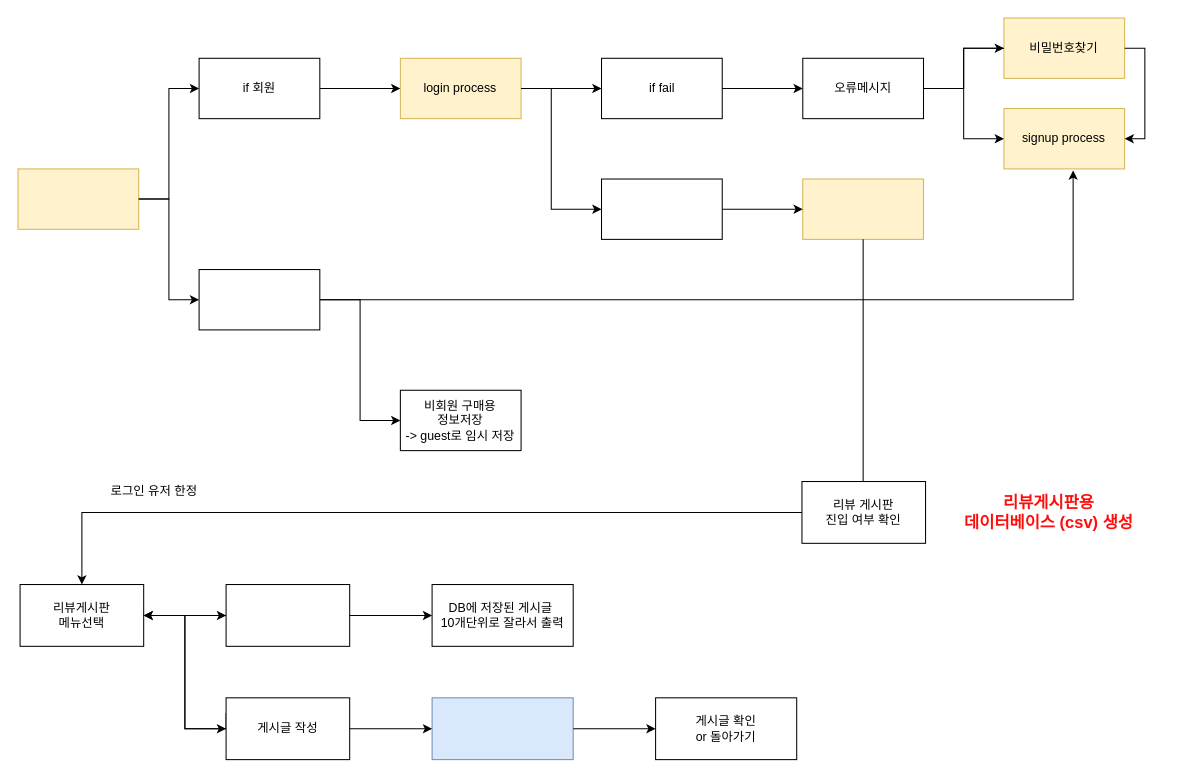
Image size: 1191x778. Some labels were removed from this diagram. The centre of each missing label's shape, as x and y in pixels:
else (success): pixel 661 208
else (비회원): pixel 259 299
게시글 열람: pixel 287 614
저장 process: pixel 502 728
현재 주문자 정보 저장: pixel 862 208
회원/비회원 check: pixel 78 198
